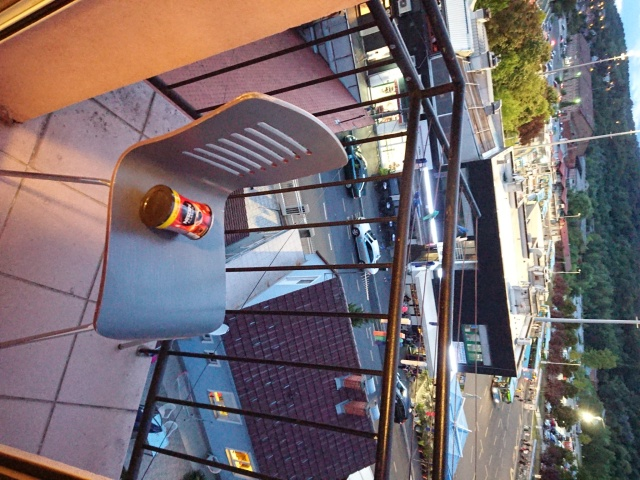Nescafe Classic 225g: (136, 182, 216, 243)
